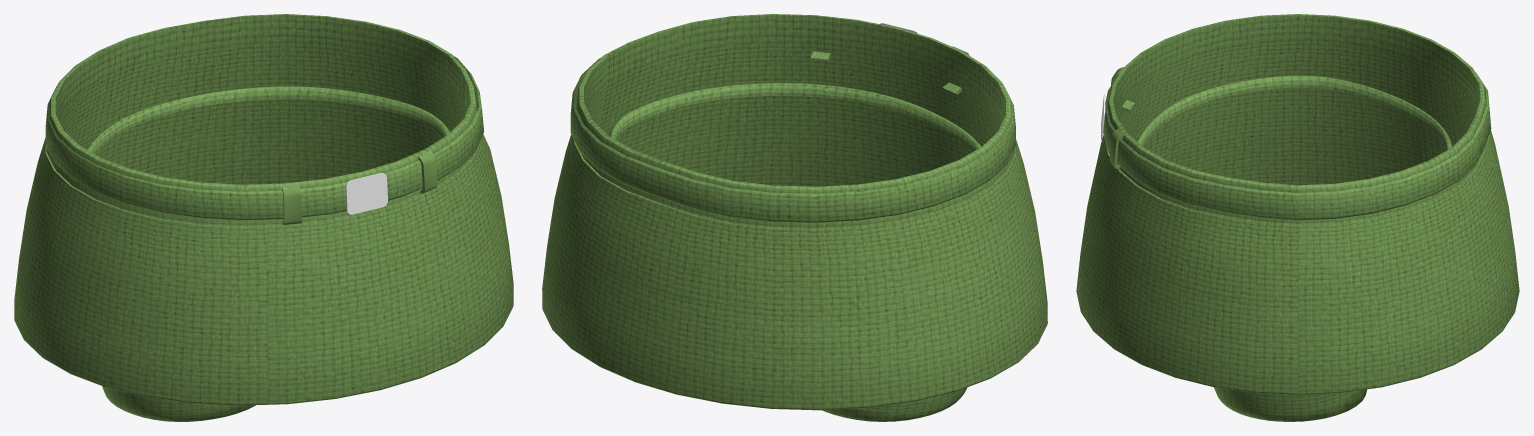
The model's file is hb_minji_skirt.gltf.
3 views of the same model, side by side, from view 1: azimuth 30°, elevation 25°; view 2: azimuth 150°, elevation 25°; view 3: azimuth 270°, elevation 25° (orthographic). The views are drawn at different scales.
Parts seen in each view (by area): view 1: Tube.1, Tube.2, DANIEL_HB.1, Cube (×2); view 2: Tube.1, Tube.2, DANIEL_HB.1; view 3: Tube.1, Tube.2, DANIEL_HB.1, Cube.
Boxes of the visible parts, left/top/right/bottom form: Tube.1: left=14, top=14, right=513, bottom=405; Tube.2: left=45, top=56, right=483, bottom=220; DANIEL_HB.1: left=86, top=86, right=449, bottom=421; Cube (×2): left=282, top=150, right=437, bottom=224; Tube.1: left=542, top=14, right=1047, bottom=410; Tube.2: left=570, top=58, right=1015, bottom=222; DANIEL_HB.1: left=609, top=83, right=981, bottom=421; Tube.1: left=1076, top=14, right=1519, bottom=394; Tube.2: left=1103, top=72, right=1491, bottom=220; DANIEL_HB.1: left=1137, top=75, right=1451, bottom=421; Cube: left=1109, top=67, right=1134, bottom=169.
Bounding box in the file's own units: 0.0385 × 0.0222 × 0.0354.
Materials: 2 (1 with a texture image).
